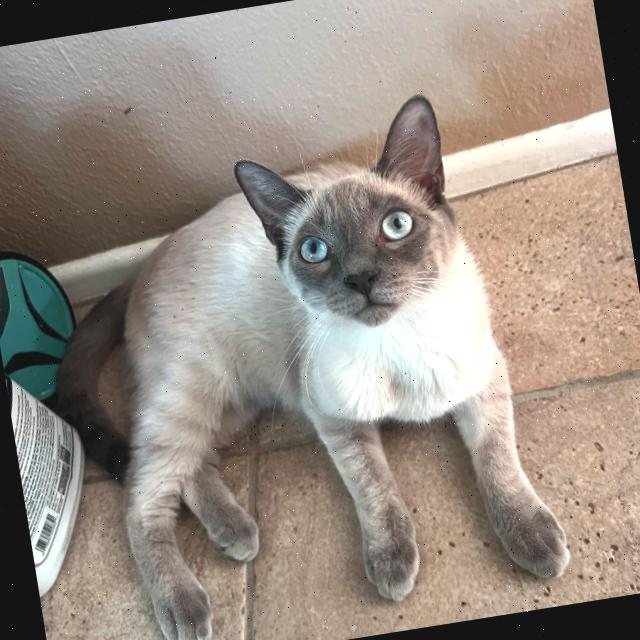siamese_cat: (218, 86, 480, 360)
